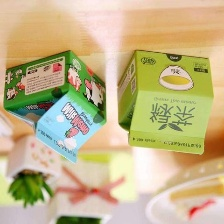carton: (2, 46, 114, 166), (112, 47, 223, 156)
